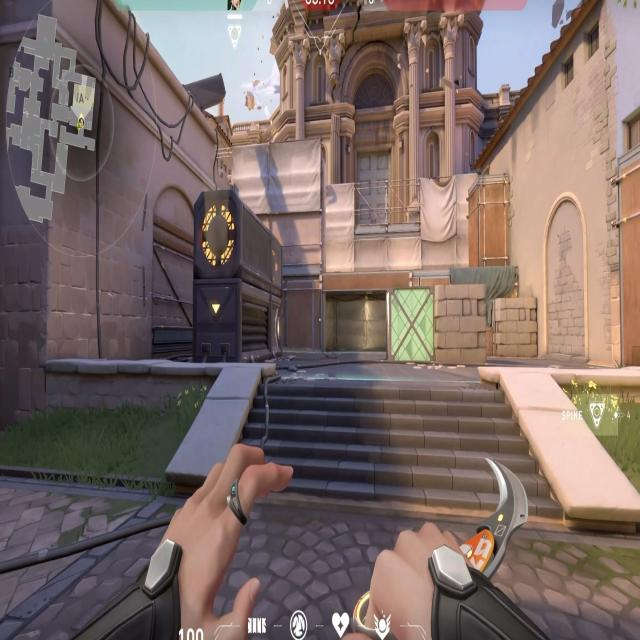A_Heaven_Box: (466, 172, 511, 265)
A_Heaven_Wall: (228, 140, 324, 274)
A_Hell: (311, 275, 422, 348)
A_Site_Box: (388, 290, 490, 360)
